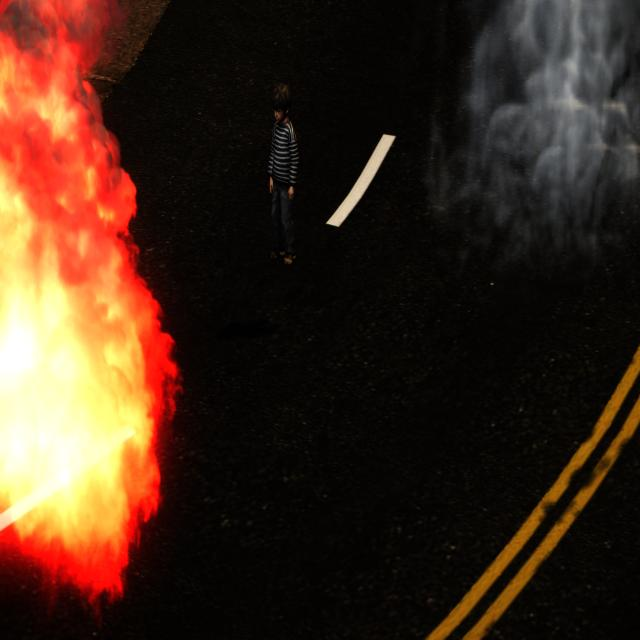Human: (261, 81, 300, 275)
